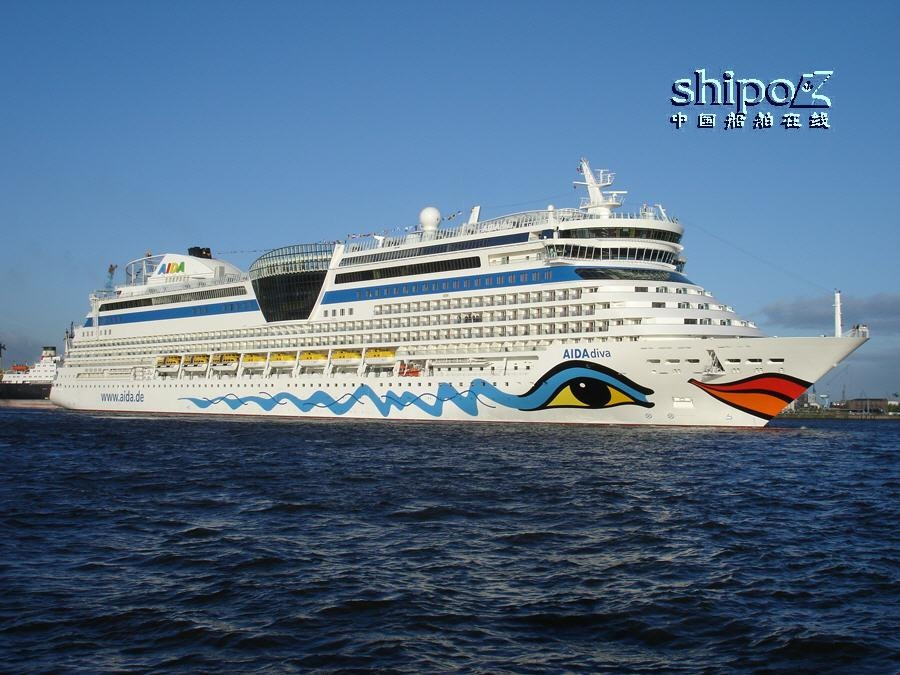youlun: (54, 148, 871, 430)
